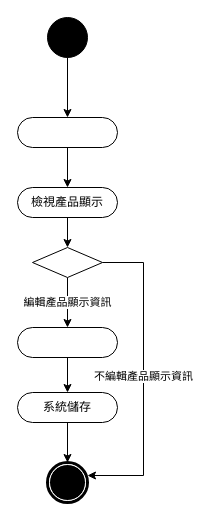
The diagram is 210 pixels wide and 520 high, and some of its shapes have lost their labels. The centre of each missing label's shape, as x and y in pixels:
"輸入產品顯示資訊" belongs at [67,342].
"點選產品顯示管理" belongs at [67,132].
